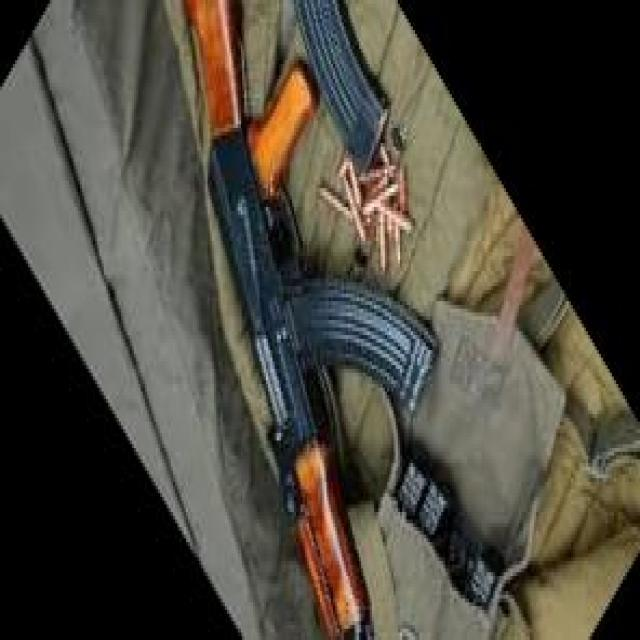weapon: (182, 1, 442, 640)
